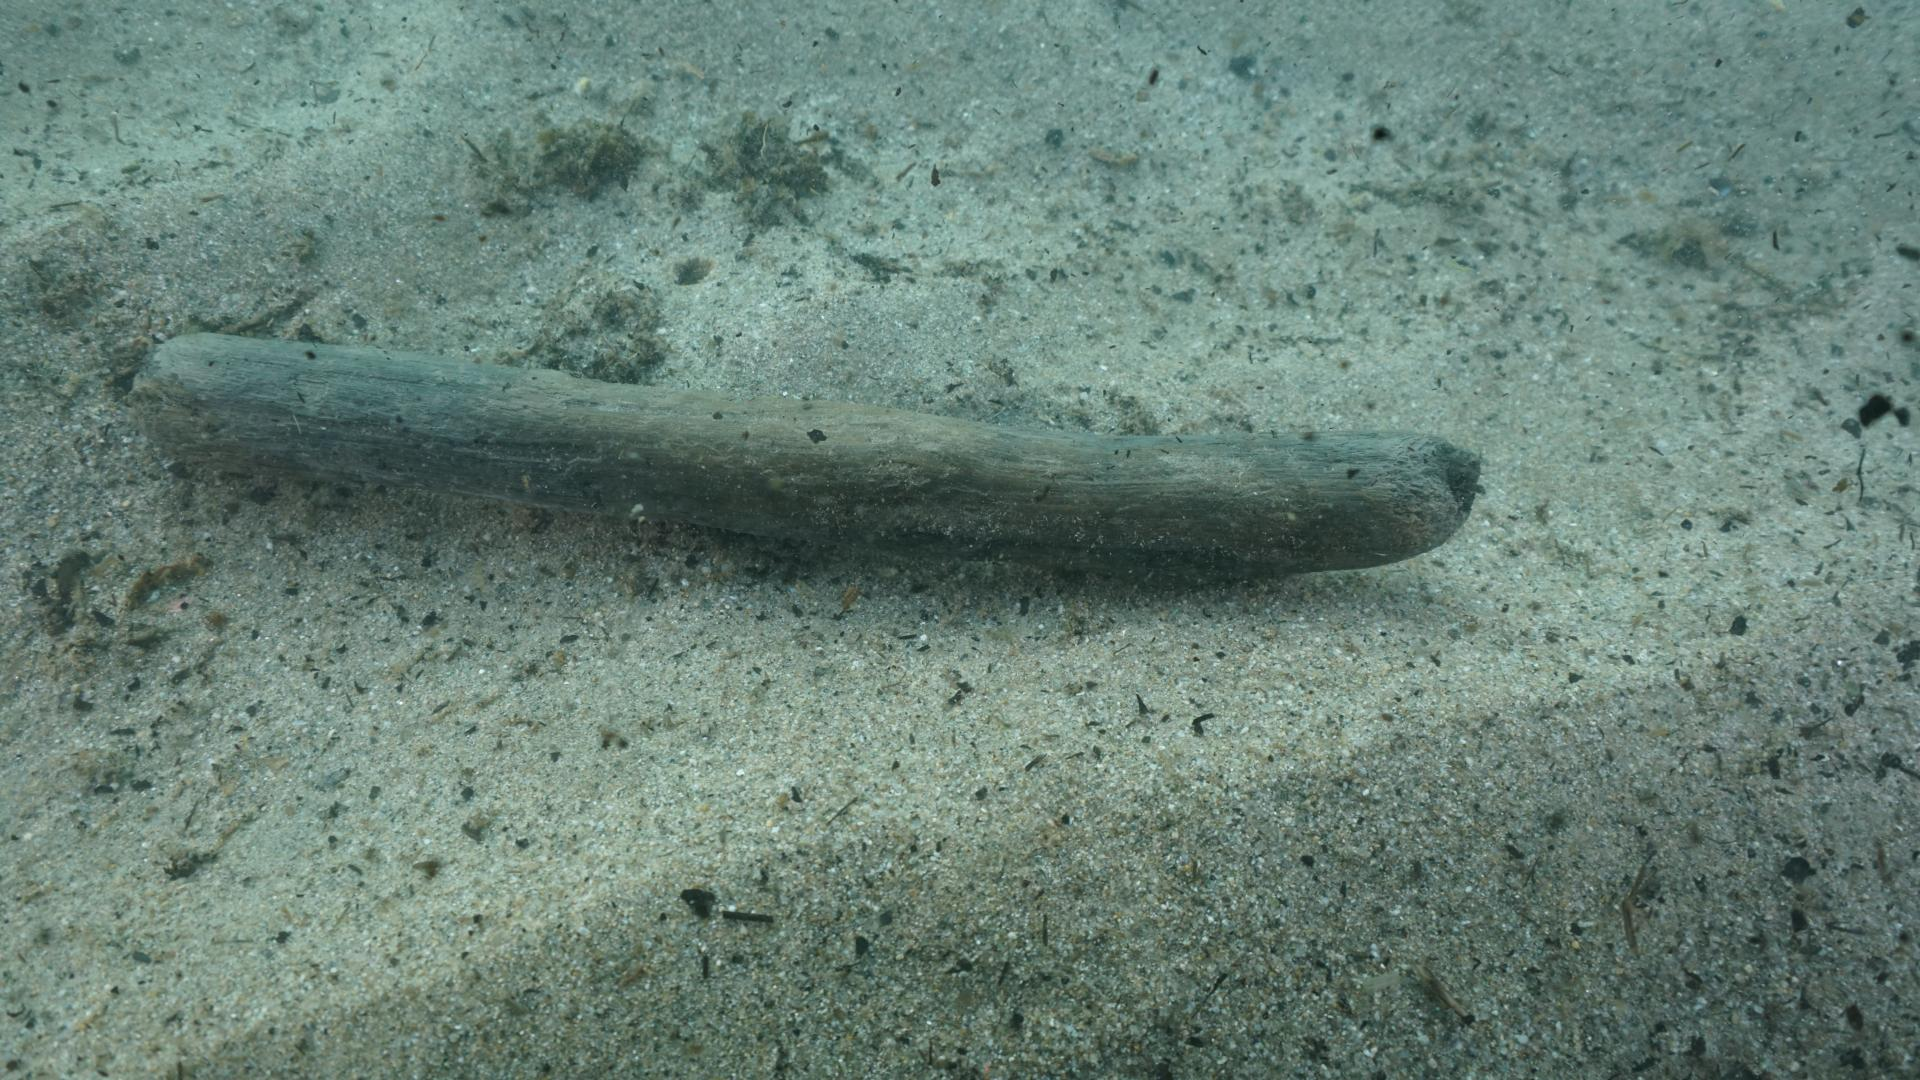wood: (127, 328, 1480, 585)
